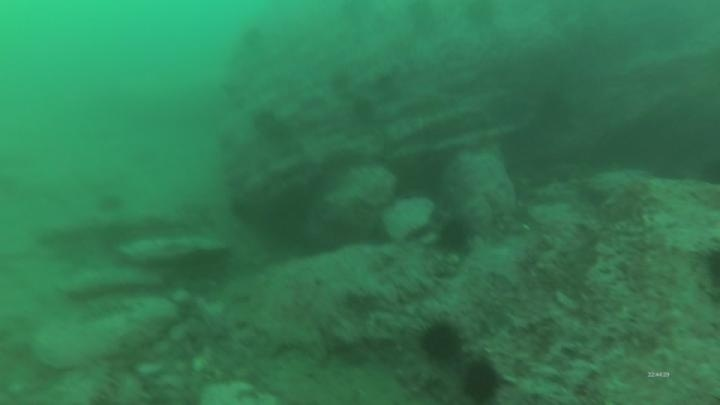echinus: (389, 152, 449, 202), (458, 357, 504, 404), (417, 318, 464, 364), (434, 215, 475, 256), (461, 1, 500, 30), (237, 23, 269, 54), (94, 190, 128, 217), (347, 93, 376, 124), (324, 71, 350, 97), (374, 64, 400, 89), (252, 104, 278, 129)
